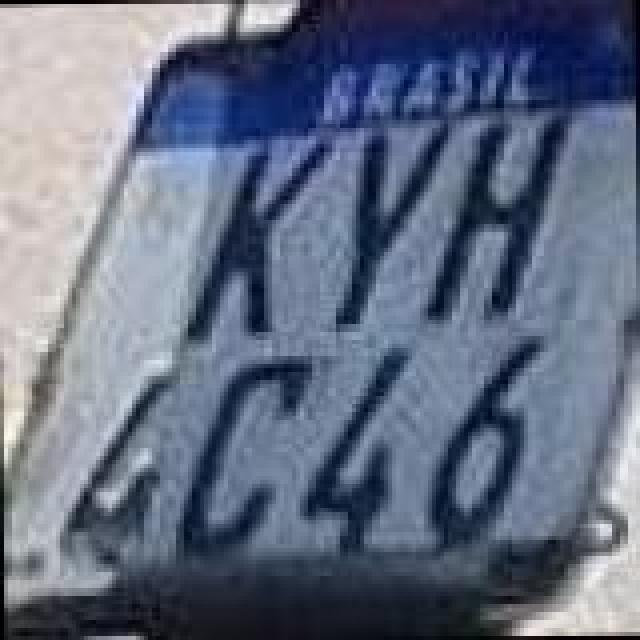4: (296, 348, 420, 564), (58, 364, 186, 556)
6: (422, 330, 550, 546)
C: (170, 354, 314, 562)
H: (418, 108, 586, 332)
K: (182, 136, 342, 344)
Y: (326, 114, 454, 330)
